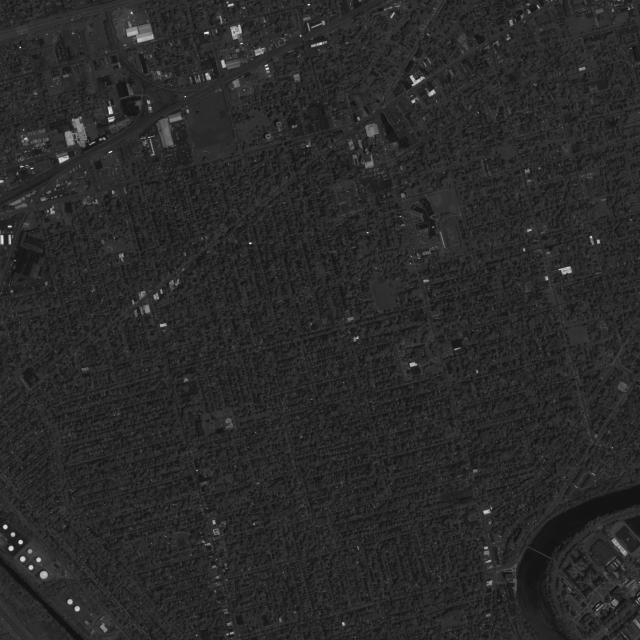storage-tank: (40, 571, 49, 580), (67, 598, 74, 605), (8, 545, 15, 552), (74, 605, 80, 612), (28, 565, 34, 571), (36, 557, 42, 563), (20, 556, 26, 562), (27, 548, 33, 554), (18, 540, 24, 545), (10, 532, 16, 537), (3, 525, 7, 529)
